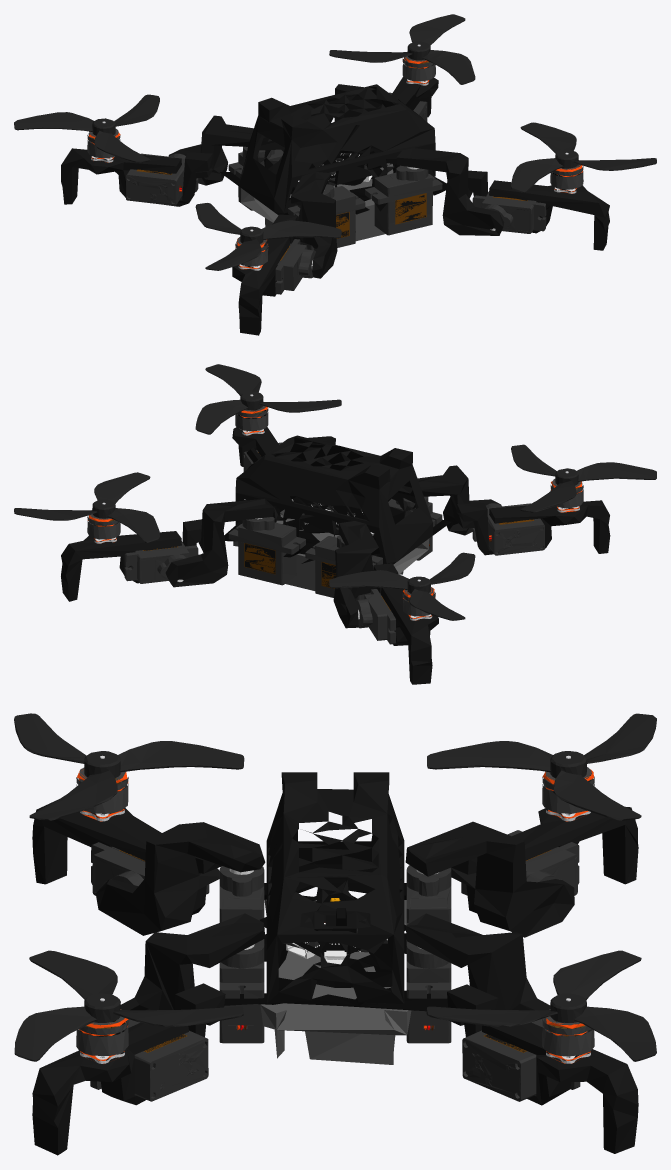
The model's file is model-lite.glb.
The picture shows the model from 3 angles, top to bottom: view 1: azimuth 30°, elevation 25°; view 2: azimuth 150°, elevation 25°; view 3: azimuth 270°, elevation 25°; orthographic projection. The views are drawn at different scales.
Parts seen in each view (by area): view 1: root_base, 40mm_1mm_prop_1, SG90_-_Micro_Servo_9g_-_Tower_Pro.1_Pea_1, WYanHua-Motor_Micro_1104_Brushless_1-2S_4300KV_v1_1; view 2: root_base, 40mm_1mm_prop_1, SG90_-_Micro_Servo_9g_-_Tower_Pro.1_Pea_1, WYanHua-Motor_Micro_1104_Brushless_1-2S_4300KV_v1_1; view 3: root_base, 40mm_1mm_prop_1, SG90_-_Micro_Servo_9g_-_Tower_Pro.1_Pea_1, WYanHua-Motor_Micro_1104_Brushless_1-2S_4300KV_v1_1, SPDT_Mini_Slide_Switch_2.
Boxes of the visible parts, x1,y1,x2,y2 form: root_base: (61,76,609,335); 40mm_1mm_prop_1: (14,14,656,270); SG90_-_Micro_Servo_9g_-_Tower_Pro.1_Pea_1: (126,92,546,294); WYanHua-Motor_Micro_1104_Brushless_1-2S_4300KV_v1_1: (87,44,583,270); root_base: (61,427,610,684); 40mm_1mm_prop_1: (14,364,656,620); SG90_-_Micro_Servo_9g_-_Tower_Pro.1_Pea_1: (124,442,544,644); WYanHua-Motor_Micro_1104_Brushless_1-2S_4300KV_v1_1: (87,394,583,620); root_base: (32,772,638,1155); 40mm_1mm_prop_1: (14,713,656,1061); SG90_-_Micro_Servo_9g_-_Tower_Pro.1_Pea_1: (90,830,580,1101); WYanHua-Motor_Micro_1104_Brushless_1-2S_4300KV_v1_1: (76,755,594,1064); SPDT_Mini_Slide_Switch_2: (300,908,370,933).
Bounding box in the file's own units: 0.2229 × 0.0612 × 0.1747.
